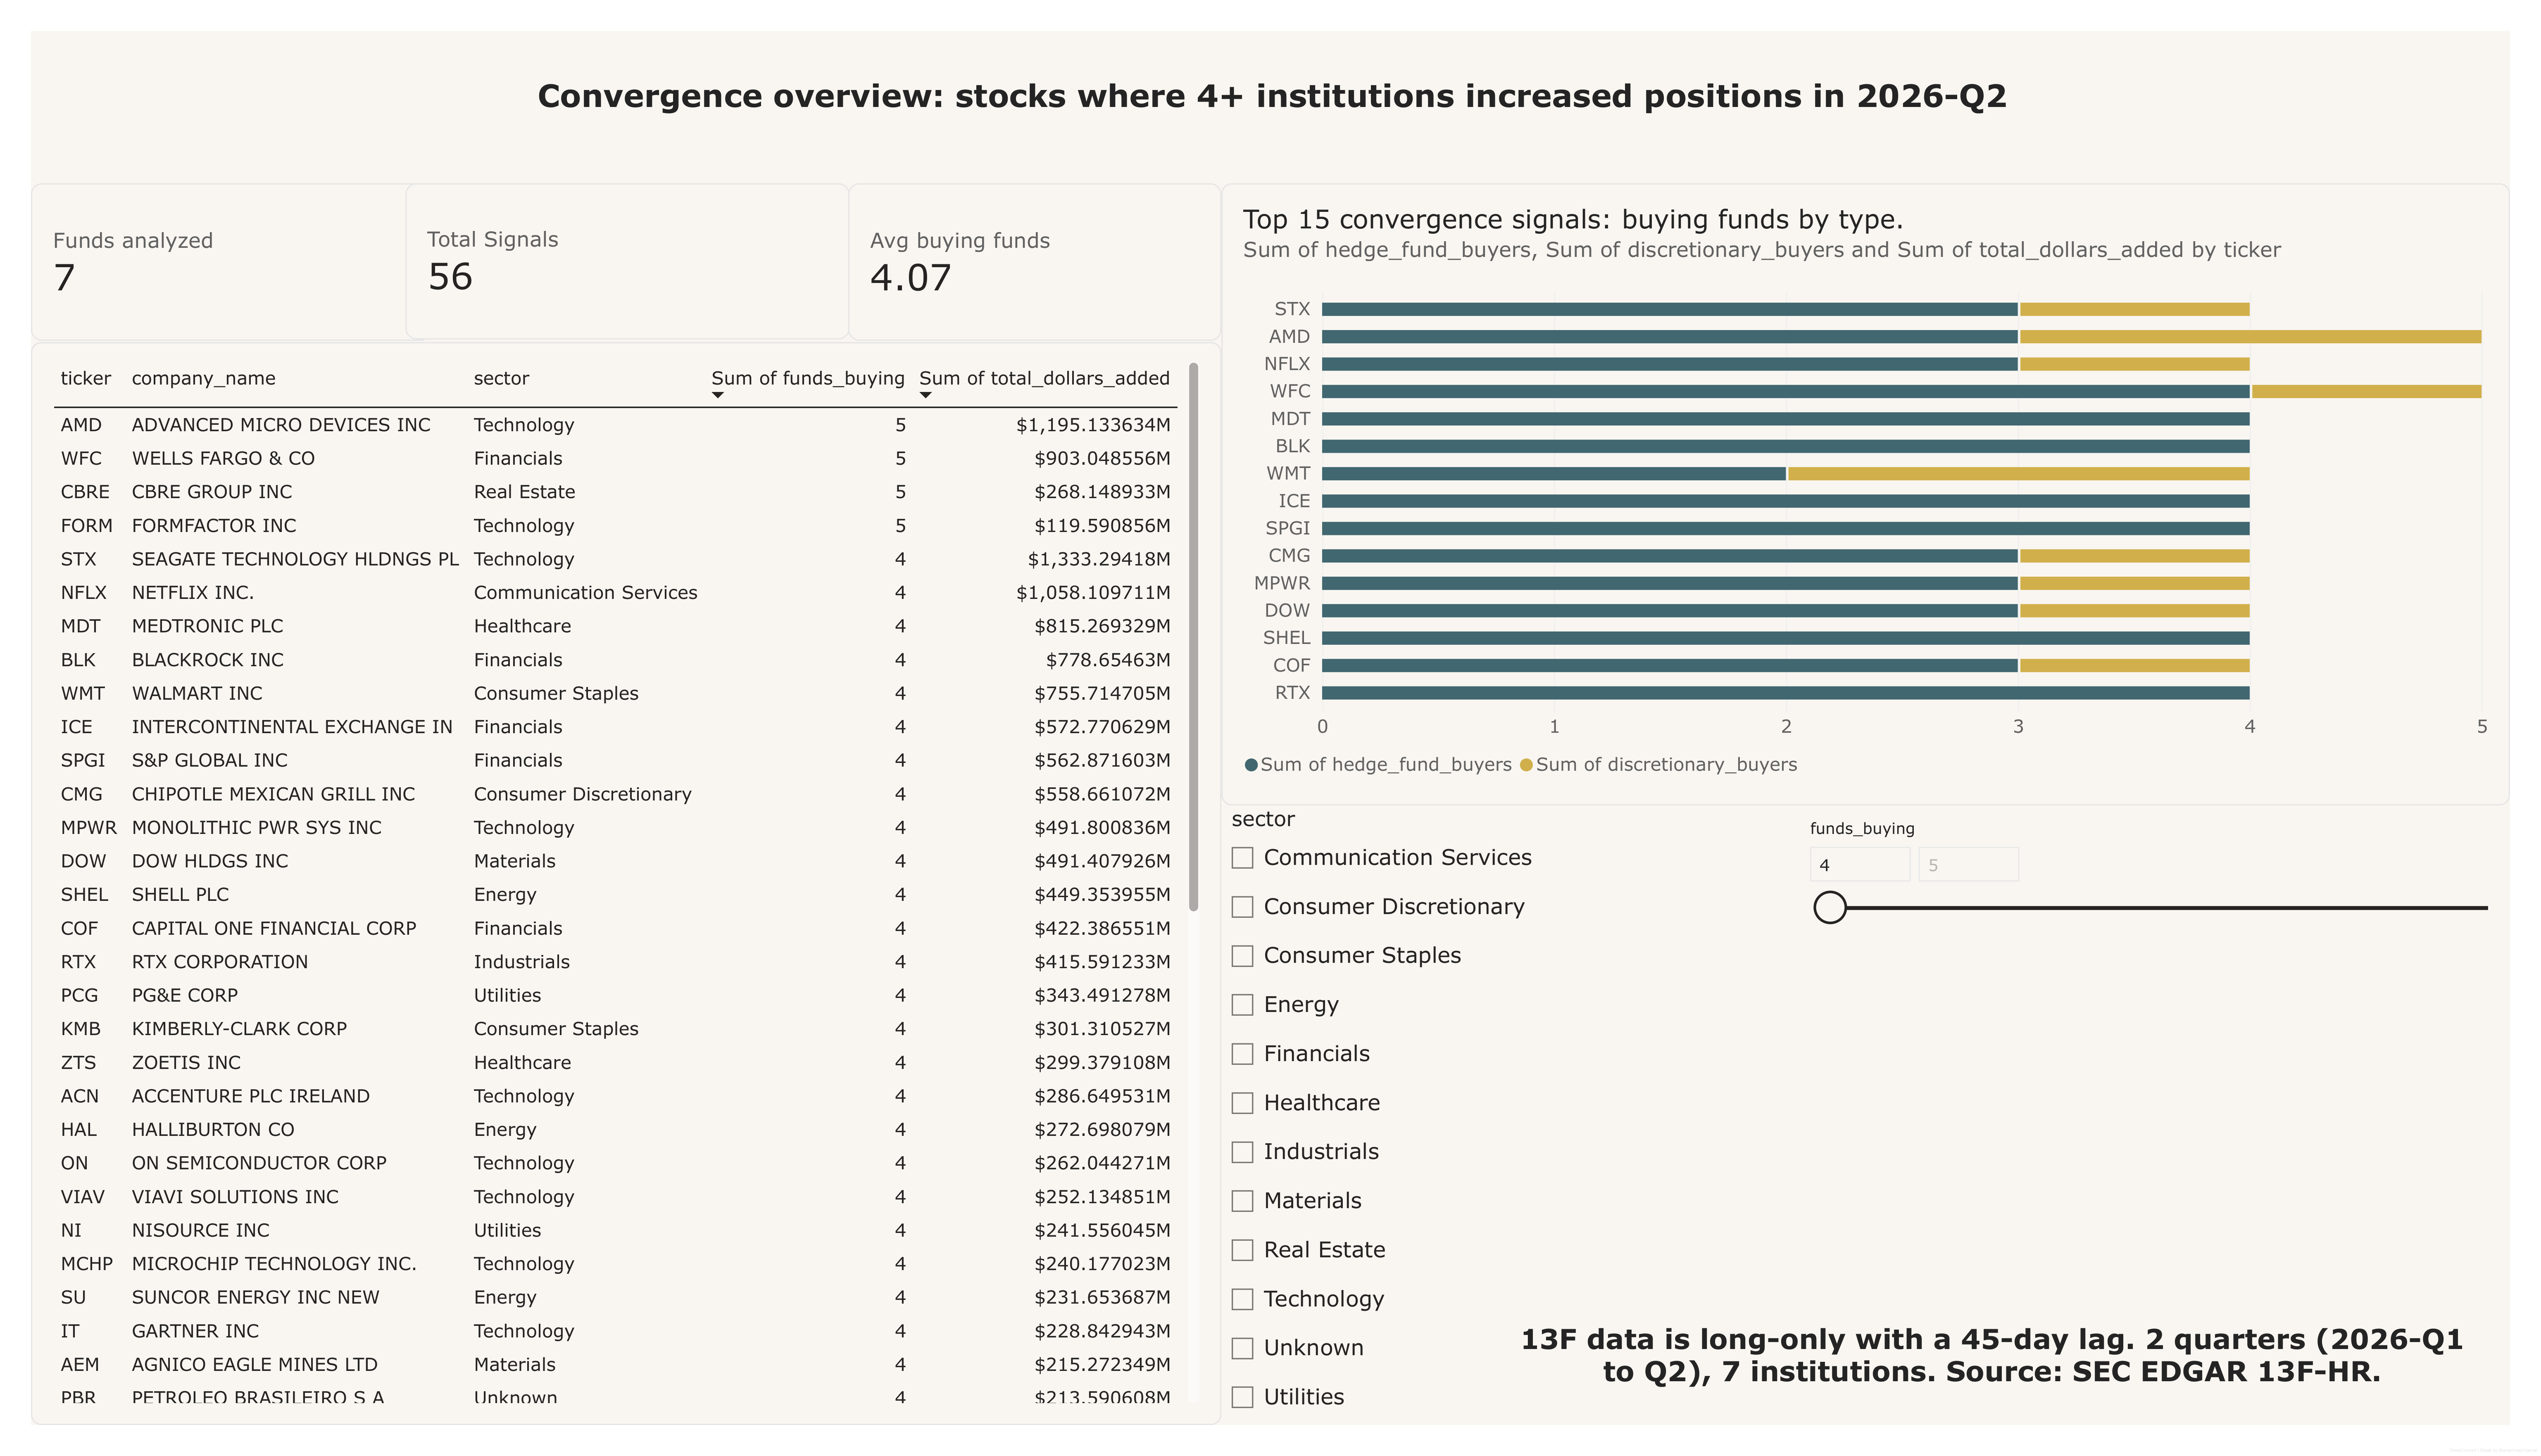

What the dashboard file says about the page in this screenshot:
{"tool":"powerbi","page":{"name":"Page 1","canvas":[1920,1080],"ordinal":0},"visuals":[{"type":"cardVisual","fields":{"Data":["Count(fund_summary.fund_name)"]},"box":[0,117.6,310.2,122.4],"z":0},{"type":"cardVisual","fields":{"Data":["convergence_signals.Total Signals"]},"box":[289.8,117.6,343.7,121.4],"z":1000},{"type":"cardVisual","fields":{"Data":["Avg(convergence_signals.funds_buying)"]},"box":[632.7,117.6,289.8,122.4],"z":2000},{"type":"barChart","title":"Top 15 convergence signals: buying funds by type.","fields":{"Category":["convergence_signals.ticker"],"Y":["Sum(convergence_signals.hedge_fund_buyers)","Sum(convergence_signals.discretionary_buyers)"]},"box":[922.4,118.4,998,481.6],"z":3000},{"type":"tableEx","fields":{"Values":["convergence_signals.ticker","convergence_signals.company_name","convergence_signals.sector","Sum(convergence_signals.funds_buying)","Sum(convergence_signals.total_dollars_added)"]},"box":[0,240.8,922.4,838.8],"z":4000},{"type":"slicer","fields":{"Values":["convergence_signals.sector"]},"box":[922.4,600,381.6,479.6],"z":5000},{"type":"slicer","fields":{"Values":["convergence_signals.funds_buying"]},"box":[1370,610,551,100],"z":6000},{"type":"textbox","box":[377.5,35,1167.5,52.5],"z":7000},{"type":"textbox","box":[1142.5,1000,752.5,80],"z":7001}]}

Visuals, with their boxes on the page's 1920x1080 design canvas (x1, y1, x2, y2). These are canvas units, not pixel positions in the 2541x1456 screenshot, which may show the page scaled, cropped or inside an application window:
cardVisual - Count(fund_summary.fund_name): l=0, t=118, r=310, b=240
cardVisual - convergence_signals.Total Signals: l=290, t=118, r=634, b=239
cardVisual - Avg(convergence_signals.funds_buying): l=633, t=118, r=922, b=240
"Top 15 convergence signals: buying funds by type." barChart: l=922, t=118, r=1920, b=600
tableEx - convergence_signals.ticker x convergence_signals.company_name: l=0, t=241, r=922, b=1080
slicer - convergence_signals.sector: l=922, t=600, r=1304, b=1080
slicer - convergence_signals.funds_buying: l=1370, t=610, r=1921, b=710
textbox: l=378, t=35, r=1545, b=88
textbox: l=1142, t=1000, r=1895, b=1080
